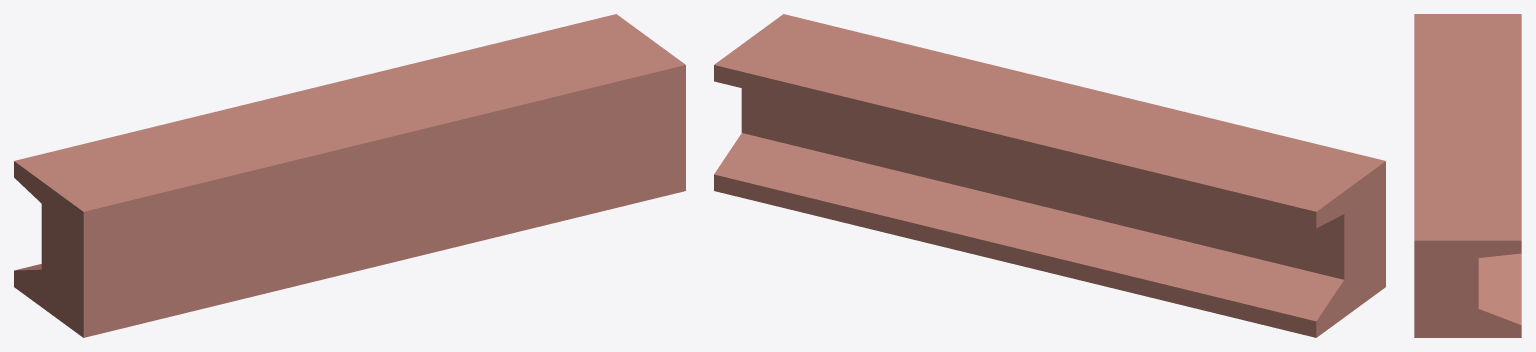
The model's file is TrimBasicWall1x5Var01.fbx.
The picture shows the model from 3 angles, left to right: view 1: azimuth 30°, elevation 25°; view 2: azimuth 150°, elevation 25°; view 3: azimuth 270°, elevation 25°; orthographic projection. The views are drawn at different scales.
Visible parts, largest first — view 1: TrimBasicWall1x5Var01.001; view 2: TrimBasicWall1x5Var01.001; view 3: TrimBasicWall1x5Var01.001.
Part boxes in pixels (left/top/right/bottom): TrimBasicWall1x5Var01.001: left=14, top=14, right=685, bottom=337; TrimBasicWall1x5Var01.001: left=714, top=14, right=1385, bottom=337; TrimBasicWall1x5Var01.001: left=1414, top=14, right=1521, bottom=337.
Bounding box in the file's own units: 500 × 100 × 100.
